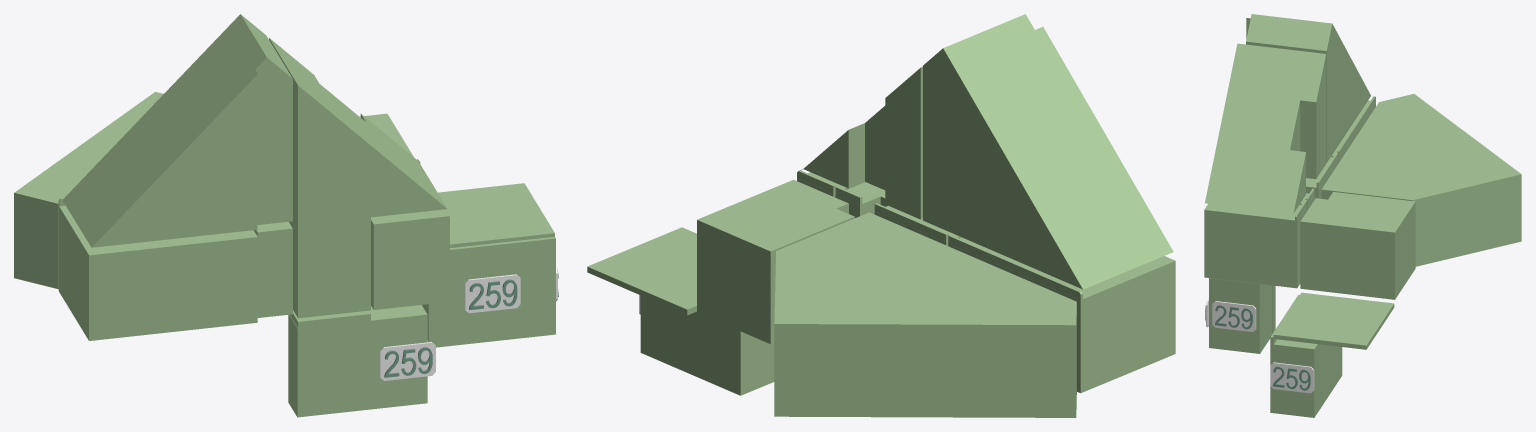
3 renders of one model, left to right at view 1: azimuth 30°, elevation 25°; view 2: azimuth 150°, elevation 25°; view 3: azimuth 270°, elevation 25°, orthographic. The views are drawn at different scales.
Parts seen in each view (by area): view 1: g_2, g_6, g_12, g_1, g_4, g_5, g_9, g_11, g_3, g_13, g_8, g_0 (+3 smaller); view 2: g_5, g_2, g_10, g_6, g_3, g_1, g_13, g_7, g_9; view 3: g_5, g_3, g_10, g_9, g_2, g_13, g_1, g_0, g_4, g_29, g_25, g_6 (+1 smaller).
Boxes of the visible parts, x1,y1,x2,y2 form: g_2: [62, 14, 292, 247]; g_6: [58, 198, 257, 340]; g_12: [288, 306, 387, 417]; g_1: [422, 236, 555, 347]; g_4: [287, 68, 370, 225]; g_5: [14, 92, 163, 288]; g_9: [371, 160, 449, 309]; g_11: [289, 218, 370, 318]; g_3: [269, 38, 447, 217]; g_13: [438, 183, 554, 247]; g_8: [254, 221, 292, 317]; g_0: [382, 305, 427, 407]; g_5: [774, 212, 1076, 417]; g_2: [923, 14, 1173, 289]; g_10: [697, 179, 854, 344]; g_6: [948, 235, 1175, 393]; g_3: [798, 66, 922, 219]; g_1: [640, 295, 774, 395]; g_13: [587, 227, 696, 315]; g_7: [835, 182, 961, 245]; g_9: [797, 170, 864, 197]; g_5: [1321, 94, 1521, 266]; g_3: [1205, 47, 1325, 214]; g_10: [1300, 192, 1415, 299]; g_9: [1204, 200, 1307, 288]; g_2: [1246, 14, 1370, 163]; g_13: [1273, 292, 1394, 349]; g_1: [1270, 295, 1342, 417]; g_0: [1209, 278, 1272, 353]; g_4: [1221, 43, 1268, 124]; g_29: [1270, 362, 1314, 393]; g_25: [1212, 301, 1256, 331]; g_6: [1331, 96, 1375, 162].
Size of the model in its own units: 14.37 by 10.1 by 10.27.
